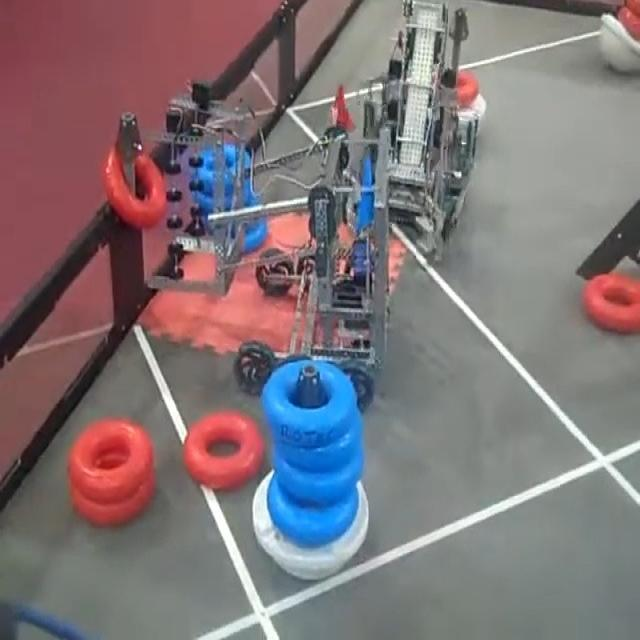Blue-Ring: (262, 360, 356, 447), (268, 475, 359, 546), (275, 440, 364, 504), (183, 141, 254, 209), (275, 427, 361, 472), (203, 202, 267, 251)
Red-Ring: (69, 418, 154, 502), (184, 410, 264, 490), (102, 147, 165, 228), (70, 472, 155, 525), (582, 273, 640, 332), (458, 73, 482, 109), (621, 0, 640, 40)
